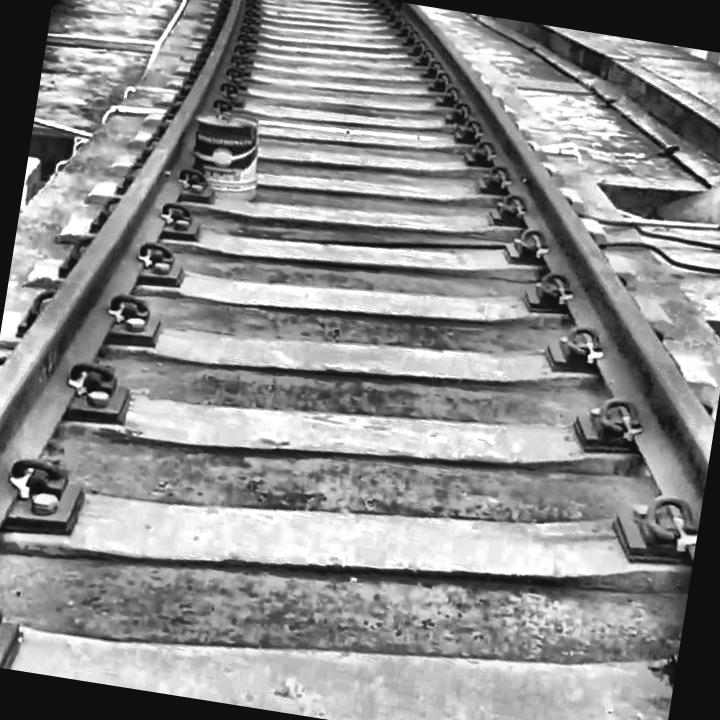Trash: (170, 90, 289, 212)
